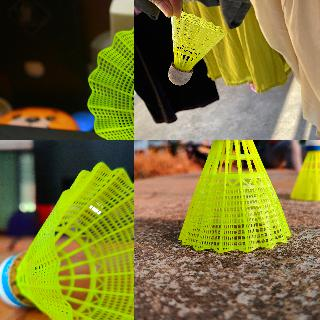shuttlecock: (0, 160, 133, 319), (175, 140, 292, 252), (87, 20, 133, 139), (168, 12, 226, 84), (290, 140, 319, 202)
